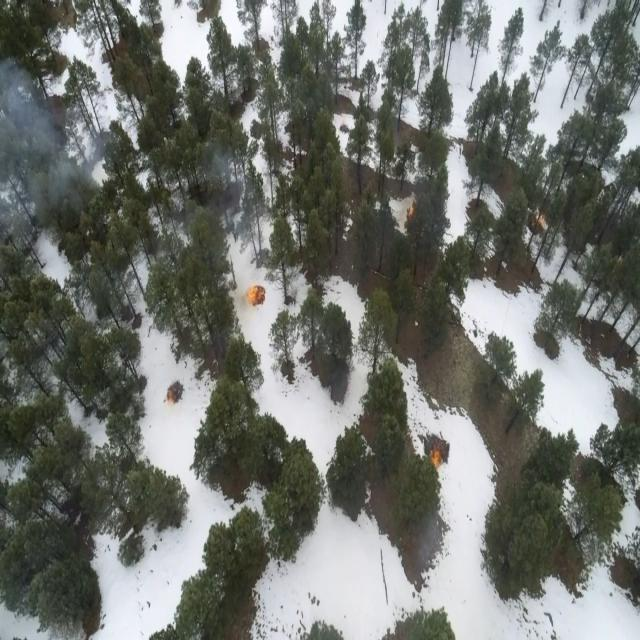Fire: (241, 278, 277, 318), (158, 377, 183, 422), (392, 192, 422, 228), (526, 206, 553, 239), (424, 444, 446, 472)
Smoke: (1, 62, 112, 250), (185, 150, 291, 270), (395, 495, 454, 584)
